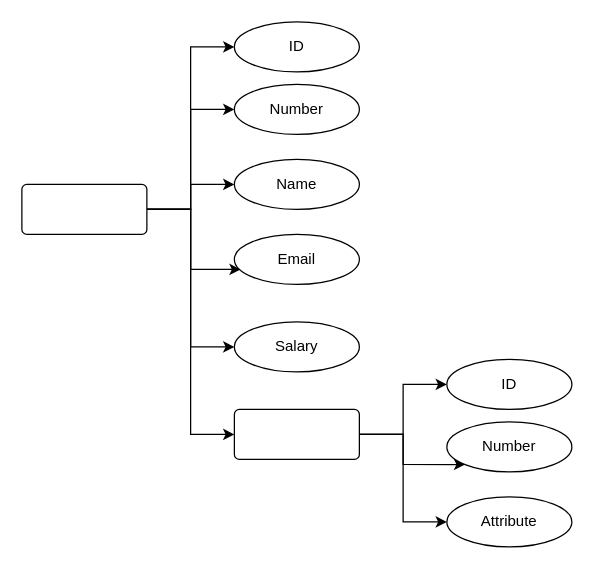
The diagram is 594 pixels wide and 569 high, and some of its shapes have lost their labels. Here are the shapes that lost their labels. From the top down, the centre of each, then its label:
point 84,208: Employee
point 296,433: Department
